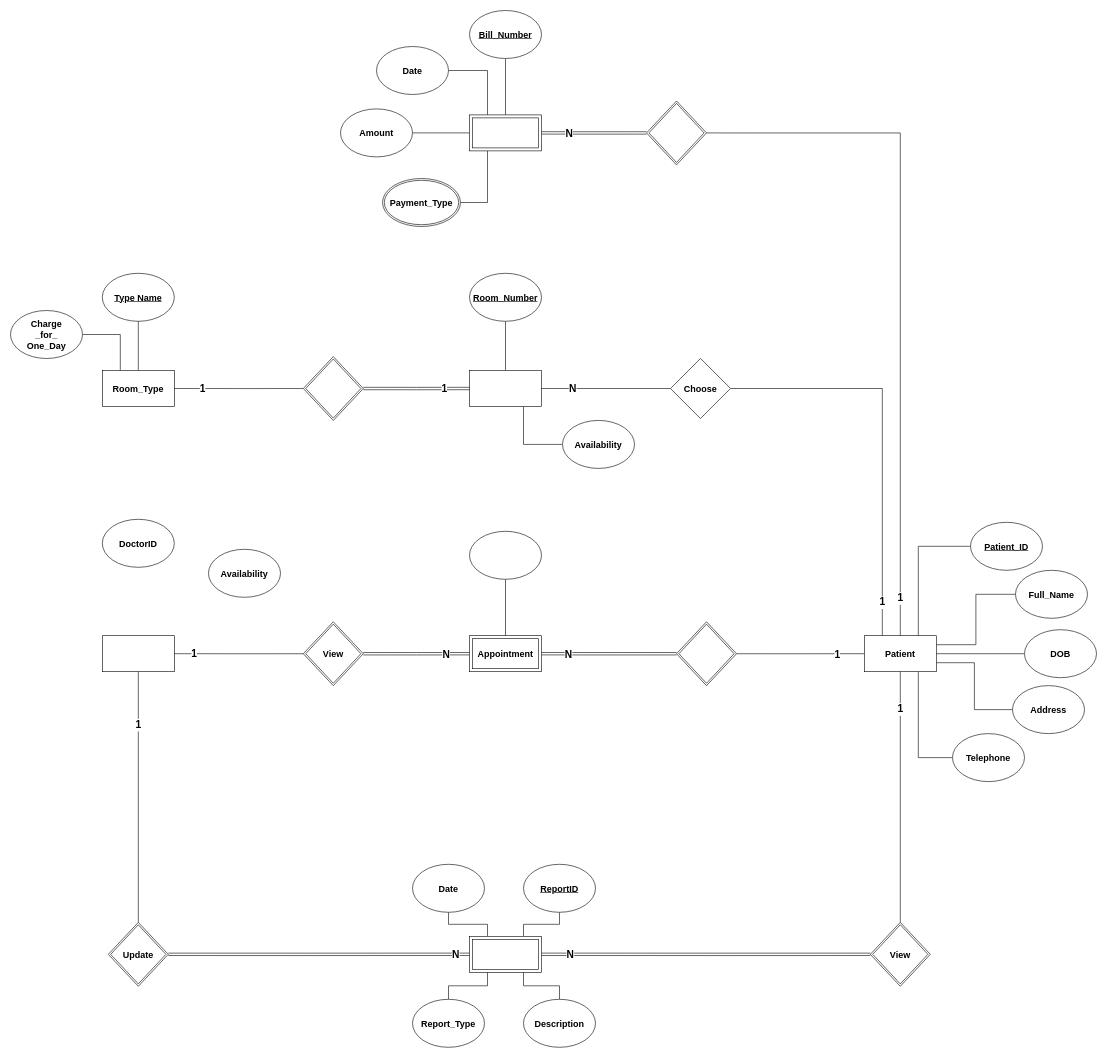
This 1107x1058 diagram has some shape labels left out. The shapes that lost their labels are listed below. From the top down, each one's centre as x and y in pixels, then its label:
(x=505, y=132): Bill
(x=676, y=132): Pays
(x=333, y=388): Has
(x=505, y=388): Room
(x=505, y=555): Appointment _ID
(x=138, y=653): Doctor
(x=706, y=653): Place
(x=505, y=954): Report
